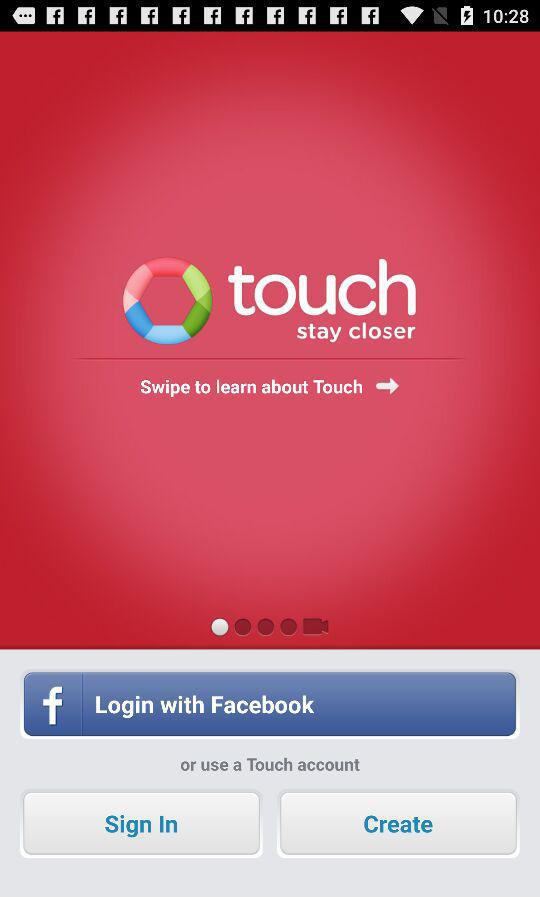Icon: (376, 377, 401, 397)
Image: (121, 257, 418, 347)
PageIndicator: (210, 616, 330, 638)
Text: (139, 377, 364, 399), (180, 756, 362, 774)
TextButton: (24, 672, 517, 737), (280, 792, 518, 856), (24, 792, 261, 855)
UpperTaskBar: (1, 1, 540, 33)
